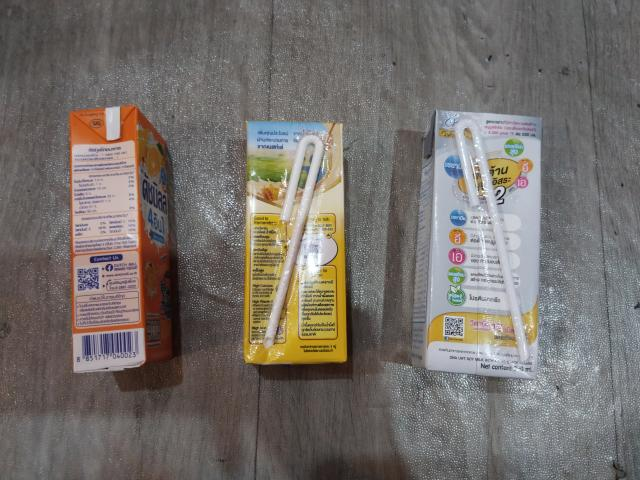drink_box: (62, 102, 182, 383), (422, 110, 542, 379), (238, 117, 350, 369)
